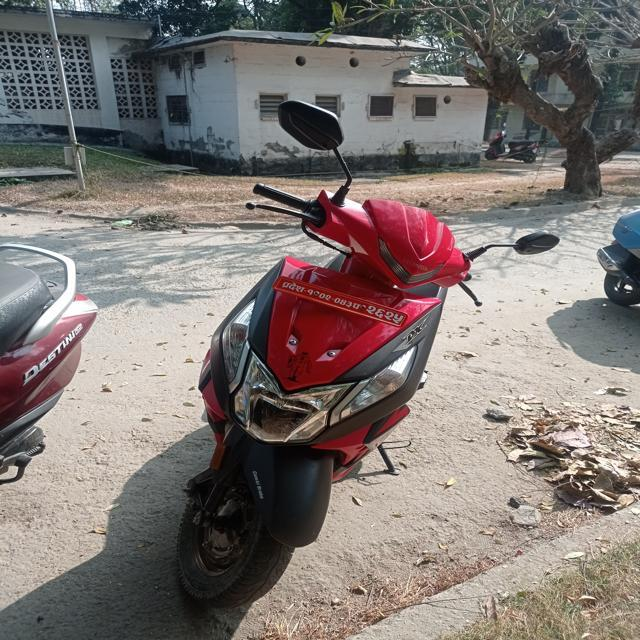license_plate: (240, 261, 432, 342)
